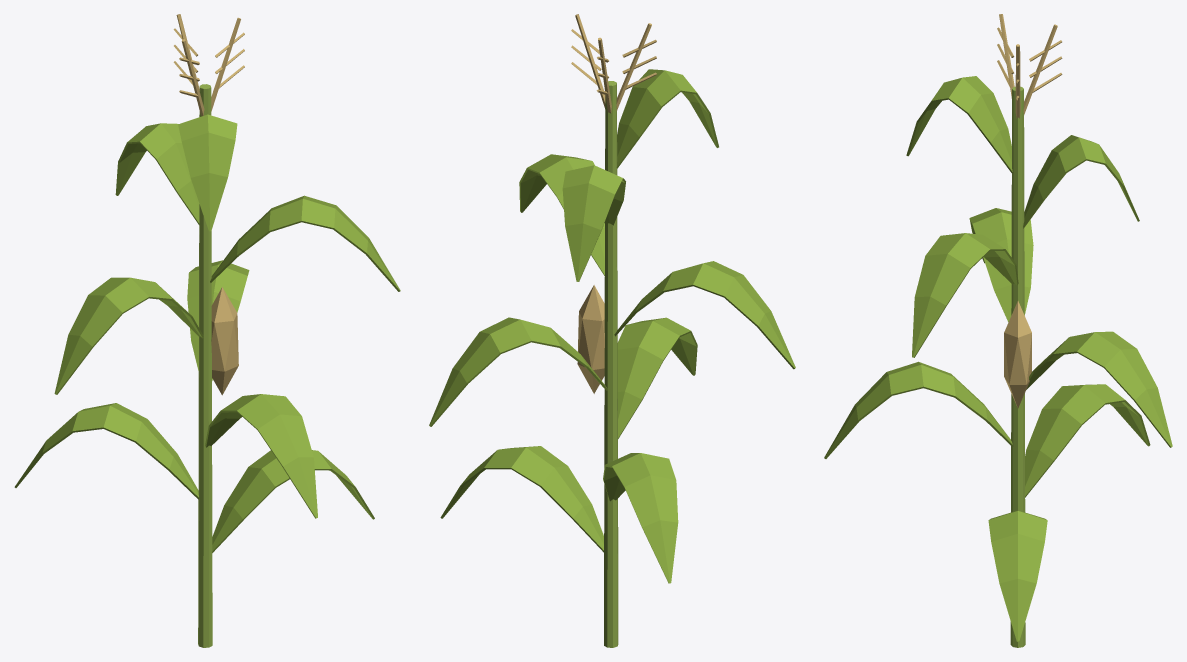
File: corn.glb
3 renders of one model, left to right at view 1: azimuth 30°, elevation 25°; view 2: azimuth 150°, elevation 25°; view 3: azimuth 270°, elevation 25°, orthographic.
Parts seen in each view (by area): view 1: corn; view 2: corn; view 3: corn.
Boxes of the visible parts, bbox=[...] form: corn: bbox=[14, 14, 400, 647]; corn: bbox=[429, 14, 795, 647]; corn: bbox=[824, 14, 1172, 647].
Bounding box in the file's own units: 1.29 × 2.27 × 1.17.
